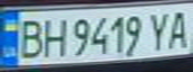1: (106, 12, 130, 55)
4: (90, 12, 112, 56)
9: (121, 11, 148, 55), (66, 14, 93, 57)
A: (163, 7, 193, 50)
B: (12, 16, 48, 60)
H: (36, 15, 69, 58)
Y: (145, 8, 172, 52)
